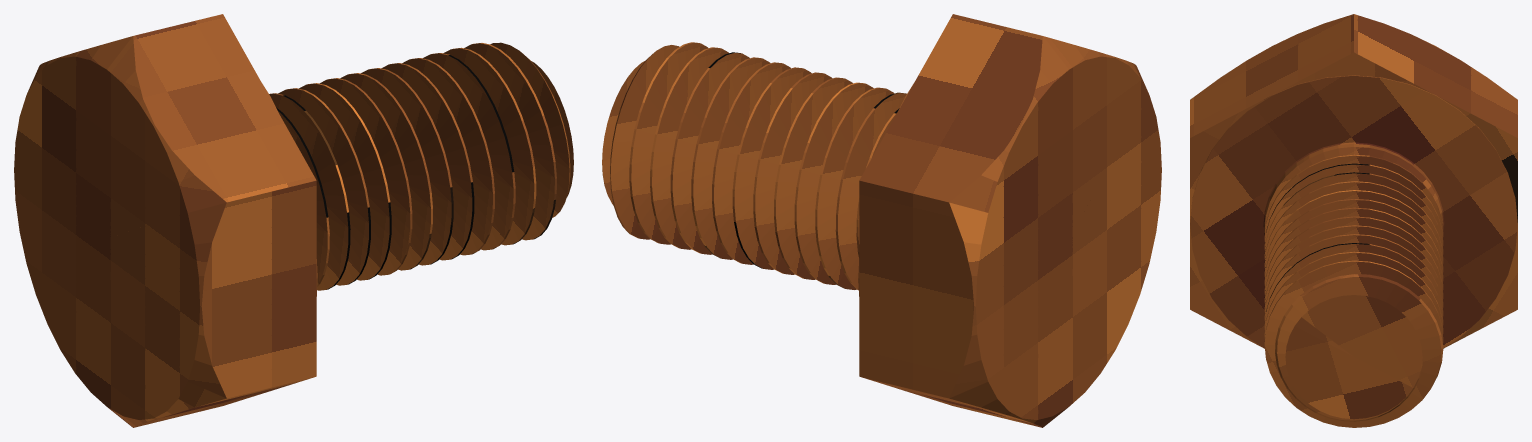
The model's file is Bolt_020.obj.
3 renders of one model, left to right at view 1: azimuth 30°, elevation 25°; view 2: azimuth 150°, elevation 25°; view 3: azimuth 270°, elevation 25°, orthographic. The views are drawn at different scales.
Visible parts, largest first — view 1: Bolt.020; view 2: Bolt.020; view 3: Bolt.020.
Boxes of the visible parts, x1,y1,x2,y2 form: Bolt.020: (14, 14, 573, 427); Bolt.020: (602, 14, 1161, 427); Bolt.020: (1190, 14, 1517, 427).
Bounding box in the file's own units: 0.0899 × 0.0787 × 0.0682.
1 material, 1 textured.
